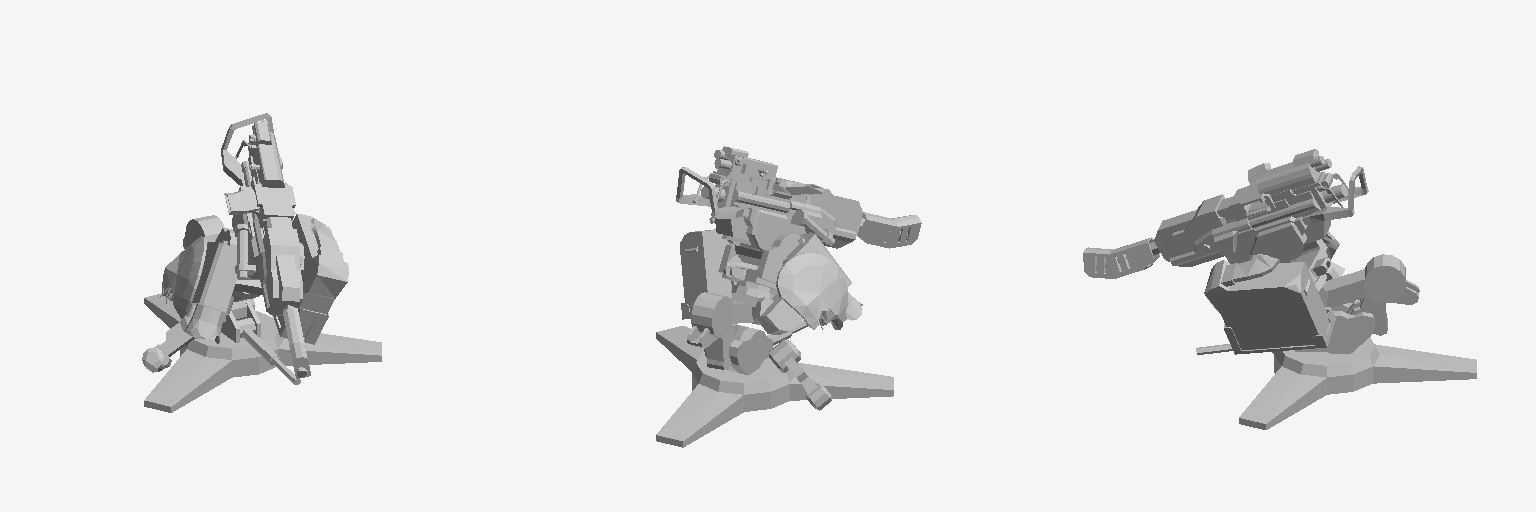
Rendered from MCOR_Sentry_Turet_destroyed.obj.
3 renders of one model, left to right at view 1: azimuth 30°, elevation 25°; view 2: azimuth 150°, elevation 25°; view 3: azimuth 270°, elevation 25°, orthographic.
Parts seen in each view (by area): view 1: sentrygundest, sentryguntripoddest; view 2: sentrygundest, sentryguntripoddest; view 3: sentrygundest, sentryguntripoddest.
Boxes of the visible parts, x1=… form: sentrygundest: x1=158, y1=113, x2=348, y2=378; sentryguntripoddest: x1=142, y1=215, x2=381, y2=412; sentrygundest: x1=676, y1=146, x2=921, y2=334; sentryguntripoddest: x1=656, y1=292, x2=893, y2=447; sentrygundest: x1=1083, y1=149, x2=1368, y2=354; sentryguntripoddest: x1=1196, y1=254, x2=1476, y2=429.
Size of the model in its own units: 2.61 by 2.44 by 3.73.